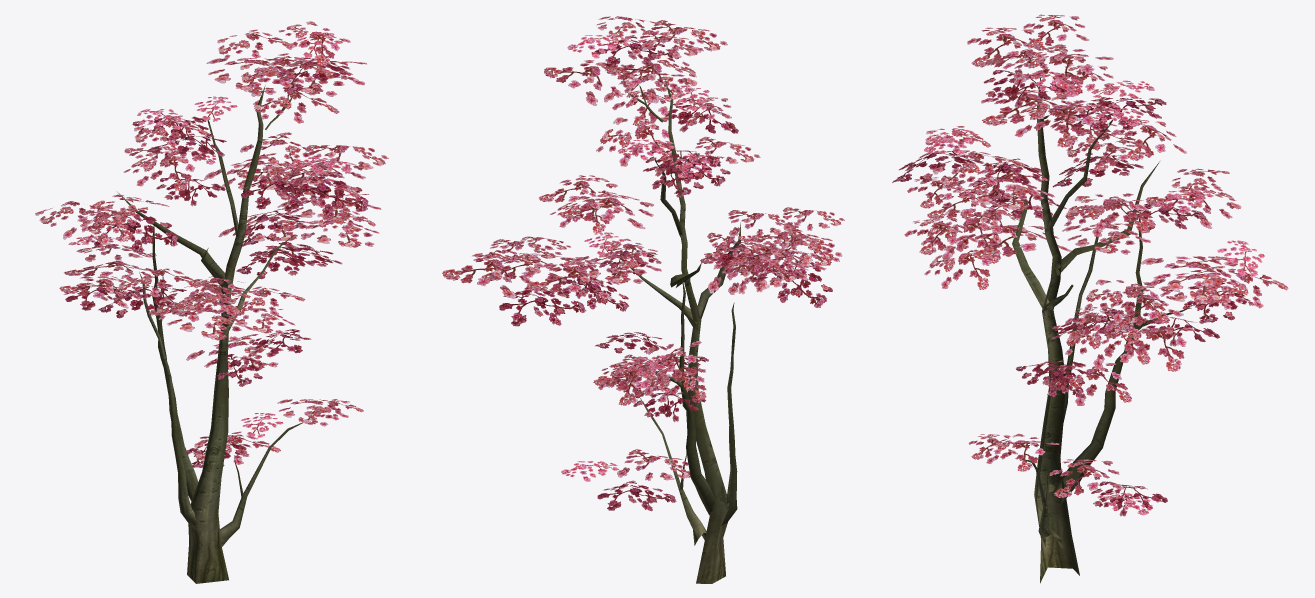
The model's file is S_Tree_Red039_A1.FBX.
3 renders of one model, left to right at view 1: azimuth 30°, elevation 25°; view 2: azimuth 150°, elevation 25°; view 3: azimuth 270°, elevation 25°, orthographic. The views are drawn at different scales.
Visible parts, largest first — view 1: S_Tree_Red039_A1_2, S_Tree_Red039_A1_1; view 2: S_Tree_Red039_A1_2, S_Tree_Red039_A1_1; view 3: S_Tree_Red039_A1_2, S_Tree_Red039_A1_1.
Boxes of the visible parts, bbox=[...] form: S_Tree_Red039_A1_2: bbox=[35, 21, 388, 467]; S_Tree_Red039_A1_1: bbox=[117, 85, 303, 583]; S_Tree_Red039_A1_2: bbox=[442, 16, 844, 511]; S_Tree_Red039_A1_1: bbox=[611, 77, 740, 583]; S_Tree_Red039_A1_2: bbox=[892, 14, 1288, 516]; S_Tree_Red039_A1_1: bbox=[1012, 78, 1191, 583].
Size of the model in its own units: 222 by 310 by 201.
